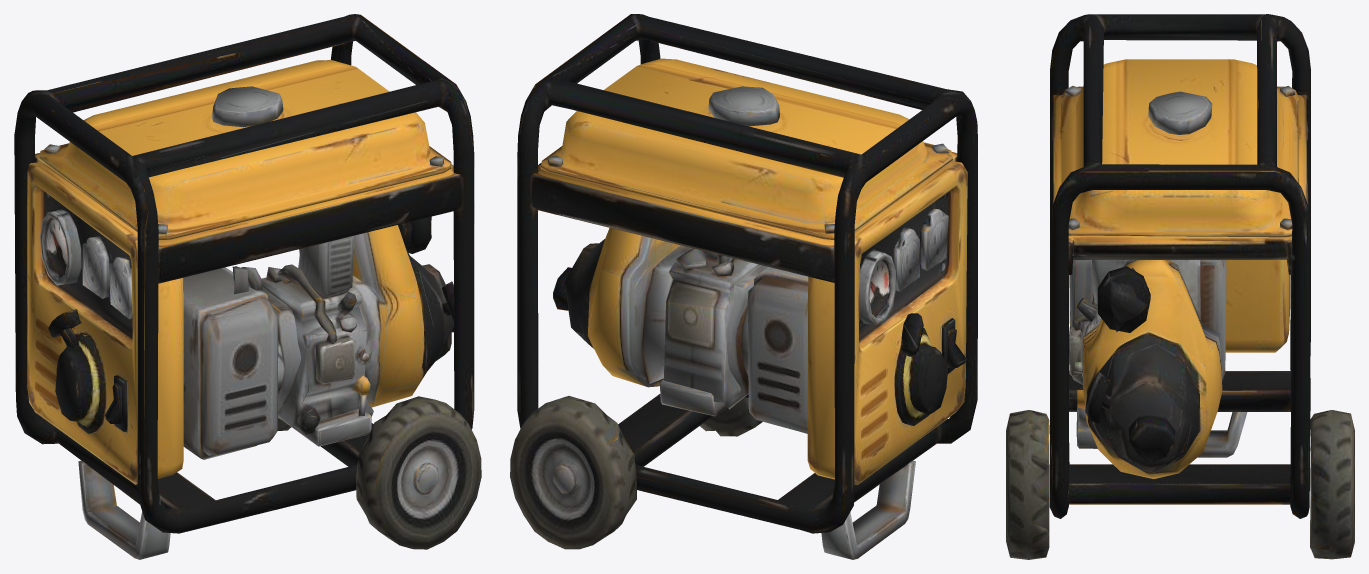
Rendered from generator.glb.
3 renders of one model, left to right at view 1: azimuth 30°, elevation 25°; view 2: azimuth 150°, elevation 25°; view 3: azimuth 270°, elevation 25°, orthographic.
Visible parts, largest first — view 1: generator; view 2: generator; view 3: generator.
Boxes of the visible parts, x1=… form: generator: x1=14, y1=14, x2=481, y2=559; generator: x1=510, y1=14, x2=977, y2=559; generator: x1=1006, y1=14, x2=1354, y2=559.
Bounding box in the file's own units: 0.86 × 0.92 × 0.69.
Materials: 1 (1 with a texture image).
